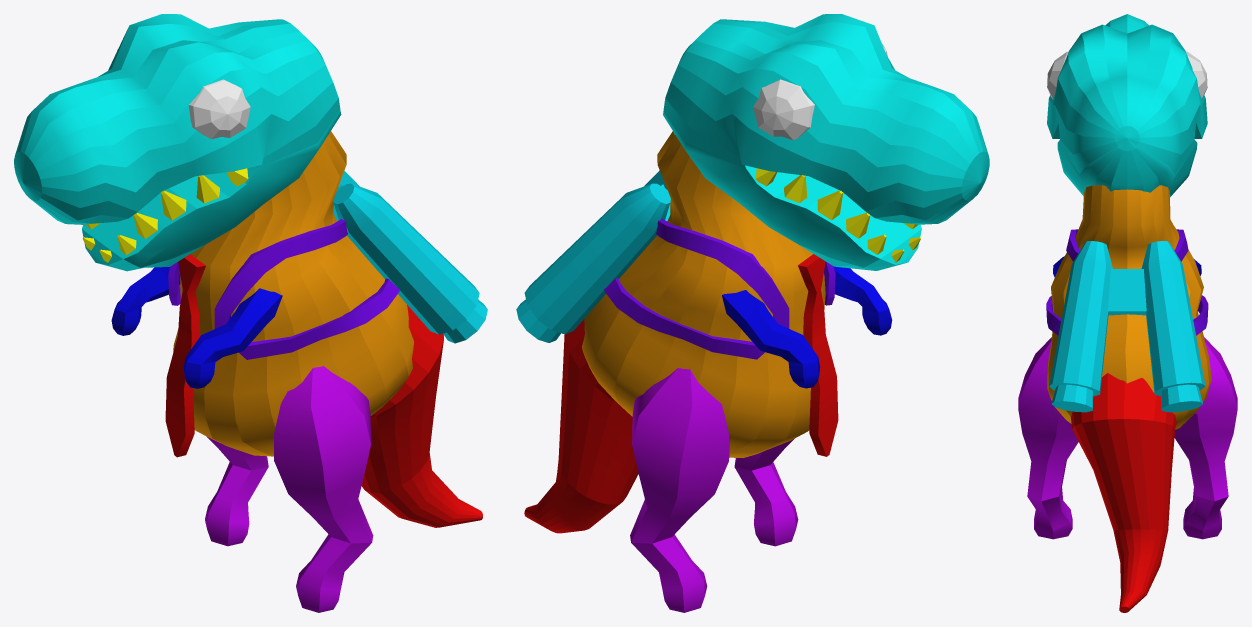
Rendered from Dino.fbx.
3 views of the same model, side by side, from view 1: azimuth 30°, elevation 25°; view 2: azimuth 150°, elevation 25°; view 3: azimuth 270°, elevation 25° (orthographic). The views are drawn at different scales.
Visible parts, largest first — view 1: head, body, Jetpack, Left_leg, tail, Tie, left_arm, right_leg1, right_arm; view 2: head, body, Jetpack, right_leg1, tail, Tie, right_arm, Left_leg, left_arm; view 3: head, Jetpack, tail, body, right_leg1, Left_leg.
Part boxes in pixels (x1,y1,x2,y2): head: (14, 14, 341, 271); body: (173, 131, 413, 456); Jetpack: (168, 171, 487, 359); Left_leg: (273, 366, 373, 612); tail: (361, 305, 482, 527); Tie: (165, 254, 205, 457); left_arm: (183, 288, 282, 388); right_leg1: (205, 436, 268, 546); right_arm: (111, 267, 180, 335); head: (663, 14, 989, 270); body: (582, 131, 825, 457); Jetpack: (516, 170, 835, 359); right_leg1: (630, 368, 729, 612); tail: (524, 319, 638, 533); Tie: (798, 254, 838, 456); right_arm: (722, 290, 820, 388); Left_leg: (734, 439, 798, 546); left_arm: (833, 266, 892, 335); head: (1047, 14, 1207, 197); Jetpack: (1046, 229, 1208, 412); tail: (1071, 373, 1176, 612); body: (1047, 185, 1211, 429); right_leg1: (1174, 337, 1237, 539); Left_leg: (1018, 337, 1078, 539).
Bounding box in the file's own units: 1.24 × 1.46 × 0.6306.
